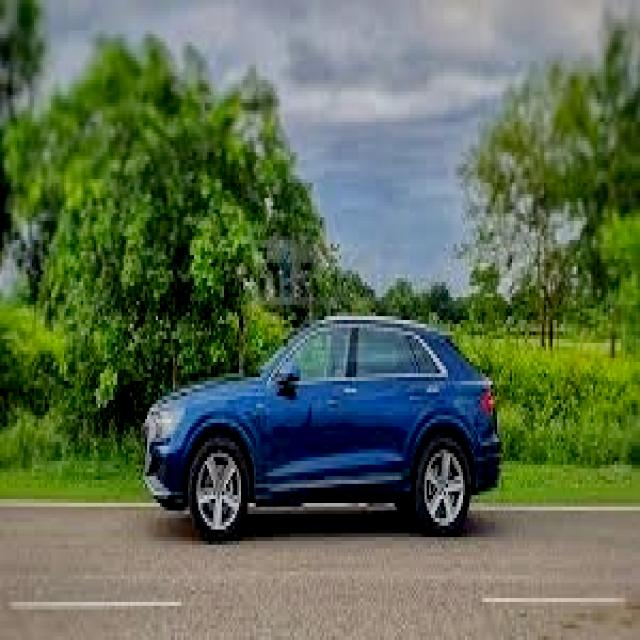blue: (120, 290, 530, 560)
